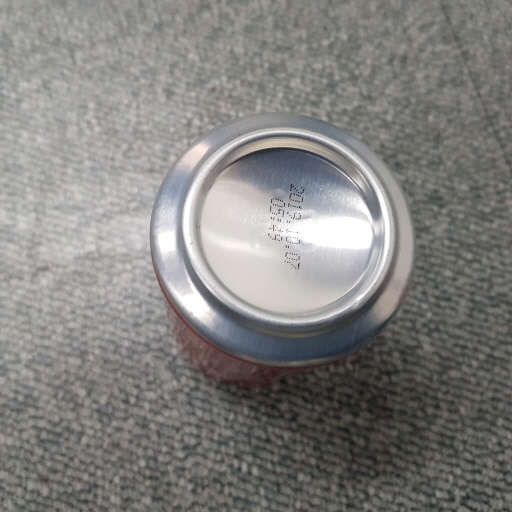Metal_0: (150, 110, 416, 380)
